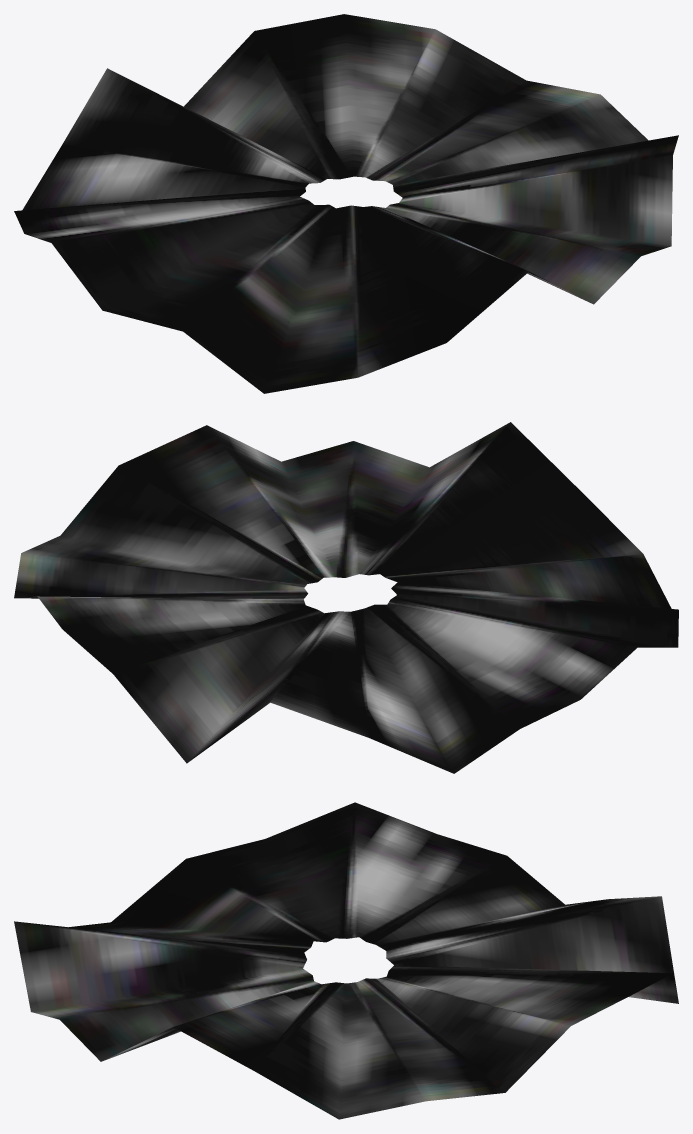
File: 0010_Aerzhousi_glow01.glb
3 renders of one model, top to bottom at view 1: azimuth 30°, elevation 25°; view 2: azimuth 150°, elevation 25°; view 3: azimuth 270°, elevation 25°, orthographic. The views are drawn at different scales.
Size of the model in its own units: 2.2 by 0.3835 by 2.2.
1 material, 1 textured.
